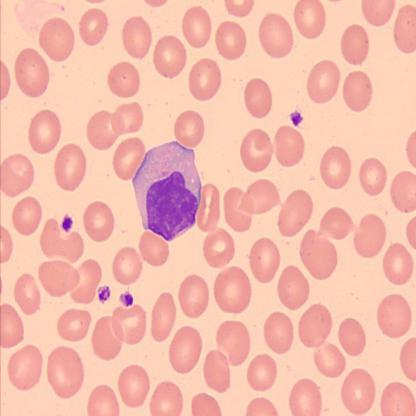Atypical lymphocyte: (132, 141, 204, 240)
